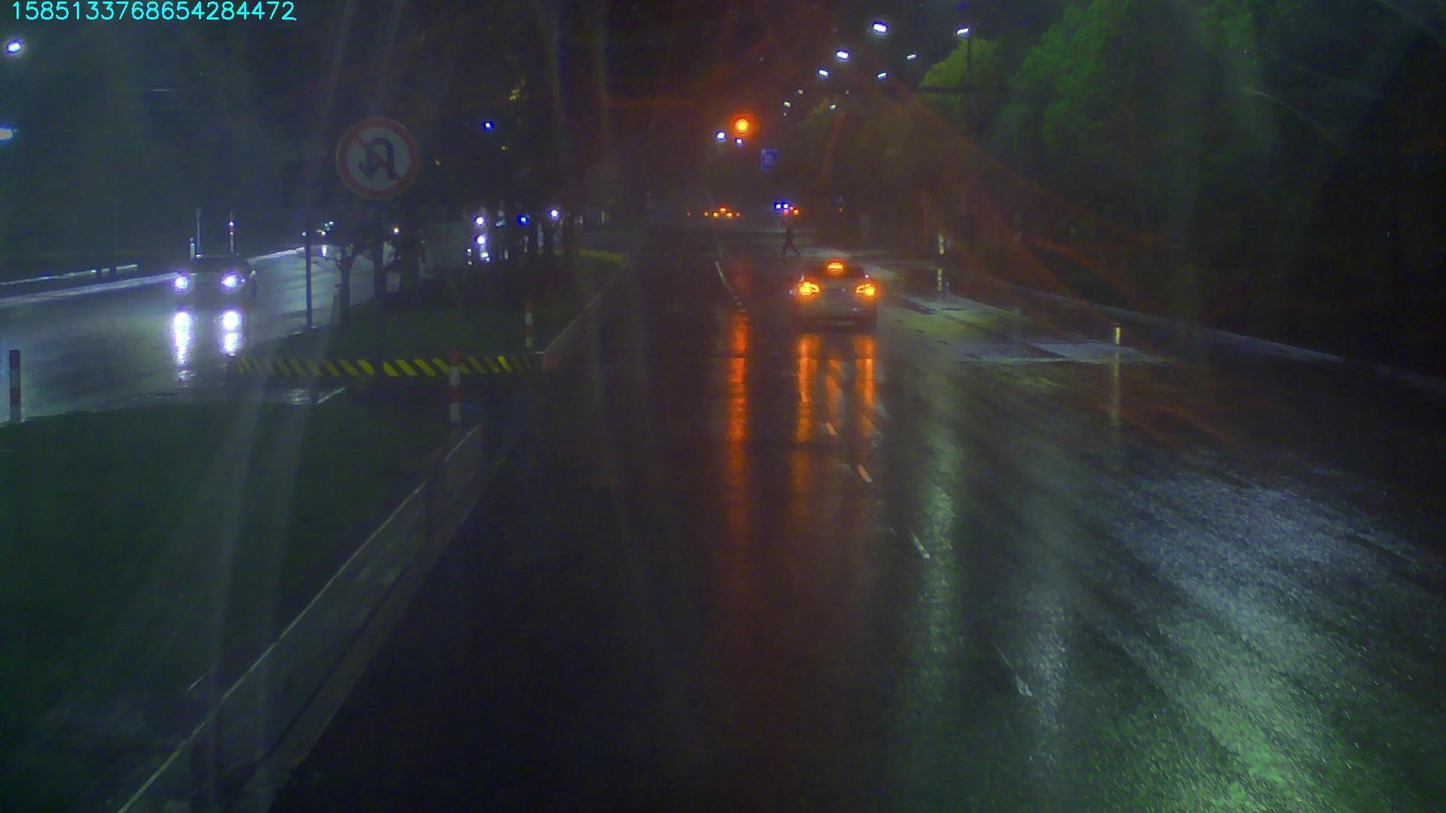red: (731, 113, 752, 134)
